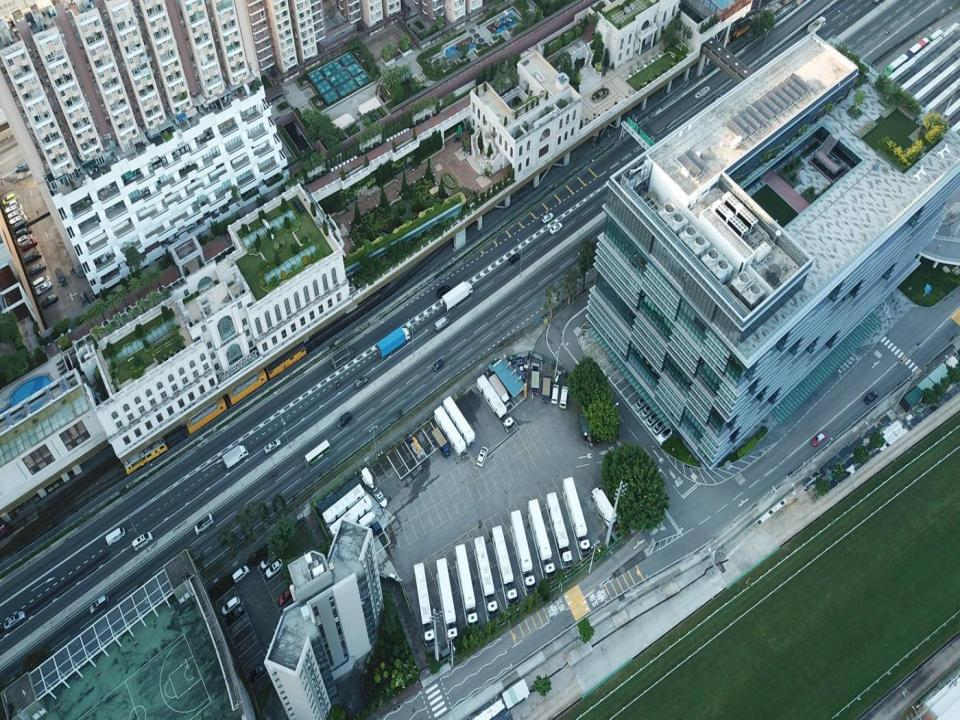bus: (304, 439, 330, 467)
car: (4, 611, 25, 630), (90, 594, 110, 613), (222, 595, 241, 614), (195, 514, 213, 534), (266, 559, 283, 578), (374, 486, 389, 507), (249, 663, 266, 681), (29, 262, 46, 279), (40, 293, 58, 309), (263, 439, 281, 455), (261, 552, 277, 570), (279, 587, 295, 604), (228, 607, 244, 623), (337, 412, 352, 429), (811, 432, 826, 447), (436, 284, 451, 298), (476, 447, 487, 466), (36, 282, 52, 295), (3, 193, 18, 206), (549, 221, 562, 235), (432, 358, 443, 374), (354, 376, 368, 388), (21, 240, 37, 250), (18, 235, 32, 246), (5, 200, 18, 211), (509, 253, 520, 265), (542, 212, 553, 224), (15, 163, 28, 171)
truck: (562, 476, 592, 556), (544, 492, 574, 569), (476, 374, 515, 432), (528, 498, 555, 579), (510, 510, 536, 593), (491, 524, 516, 606), (454, 544, 478, 628), (474, 536, 498, 618), (435, 558, 458, 640), (413, 562, 435, 647), (442, 395, 475, 444), (434, 407, 466, 454), (377, 327, 410, 358), (591, 487, 617, 526), (442, 280, 473, 312), (351, 521, 382, 547), (222, 444, 249, 470), (489, 373, 509, 408), (331, 346, 356, 370), (431, 428, 452, 456), (542, 374, 552, 402), (531, 366, 540, 395)
van: (130, 532, 153, 551), (105, 526, 123, 546), (232, 565, 249, 582), (23, 250, 41, 264), (55, 267, 68, 286), (434, 316, 449, 332), (9, 216, 27, 229), (14, 217, 27, 234), (4, 205, 23, 216), (8, 208, 24, 221), (16, 228, 33, 240), (80, 292, 91, 310), (33, 277, 50, 288), (560, 386, 568, 408), (551, 384, 558, 403)
